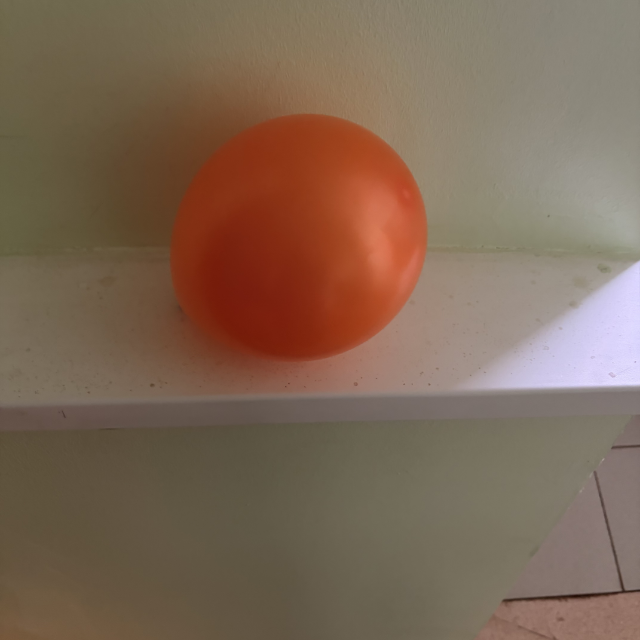balloon: (170, 113, 428, 360)
